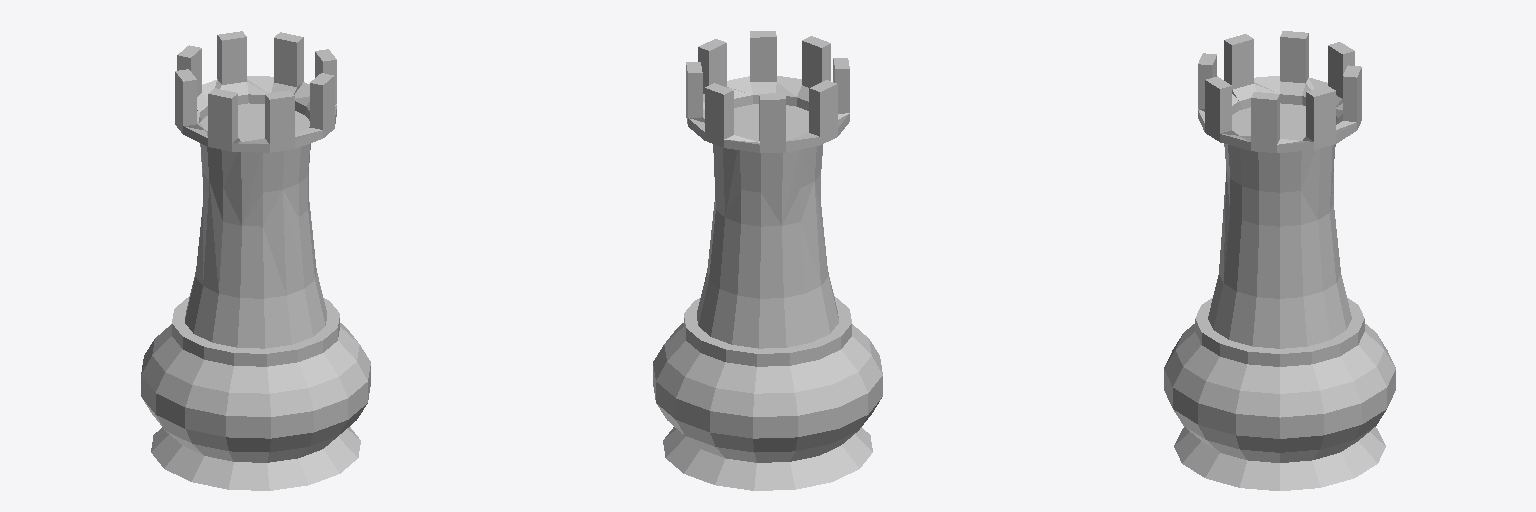
File: rook_black3.obj
3 views of the same model, side by side, from view 1: azimuth 30°, elevation 25°; view 2: azimuth 150°, elevation 25°; view 3: azimuth 270°, elevation 25° (orthographic).
Parts seen in each view (by area): view 1: Rook; view 2: Rook; view 3: Rook.
Part boxes in pixels (bbox=[...]): Rook: bbox=[141, 31, 370, 490]; Rook: bbox=[653, 31, 882, 490]; Rook: bbox=[1164, 31, 1395, 490].
Bounding box in the file's own units: 1.31 × 2.38 × 1.31.